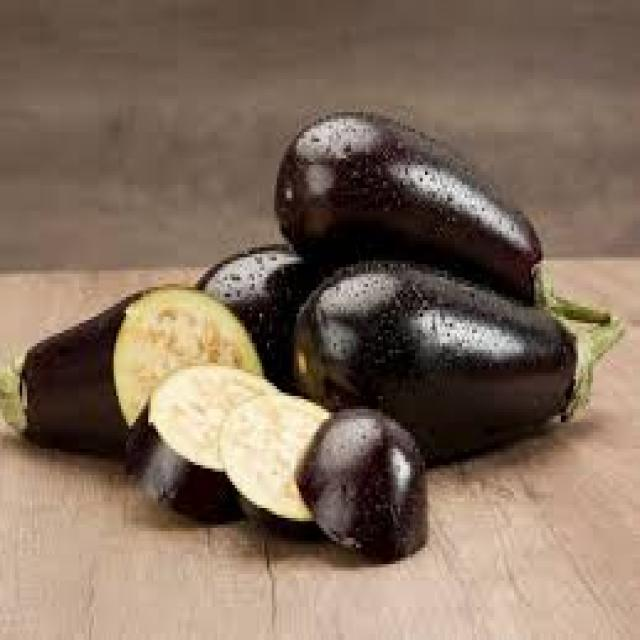eggplant: (289, 264, 583, 462), (272, 102, 544, 307)
